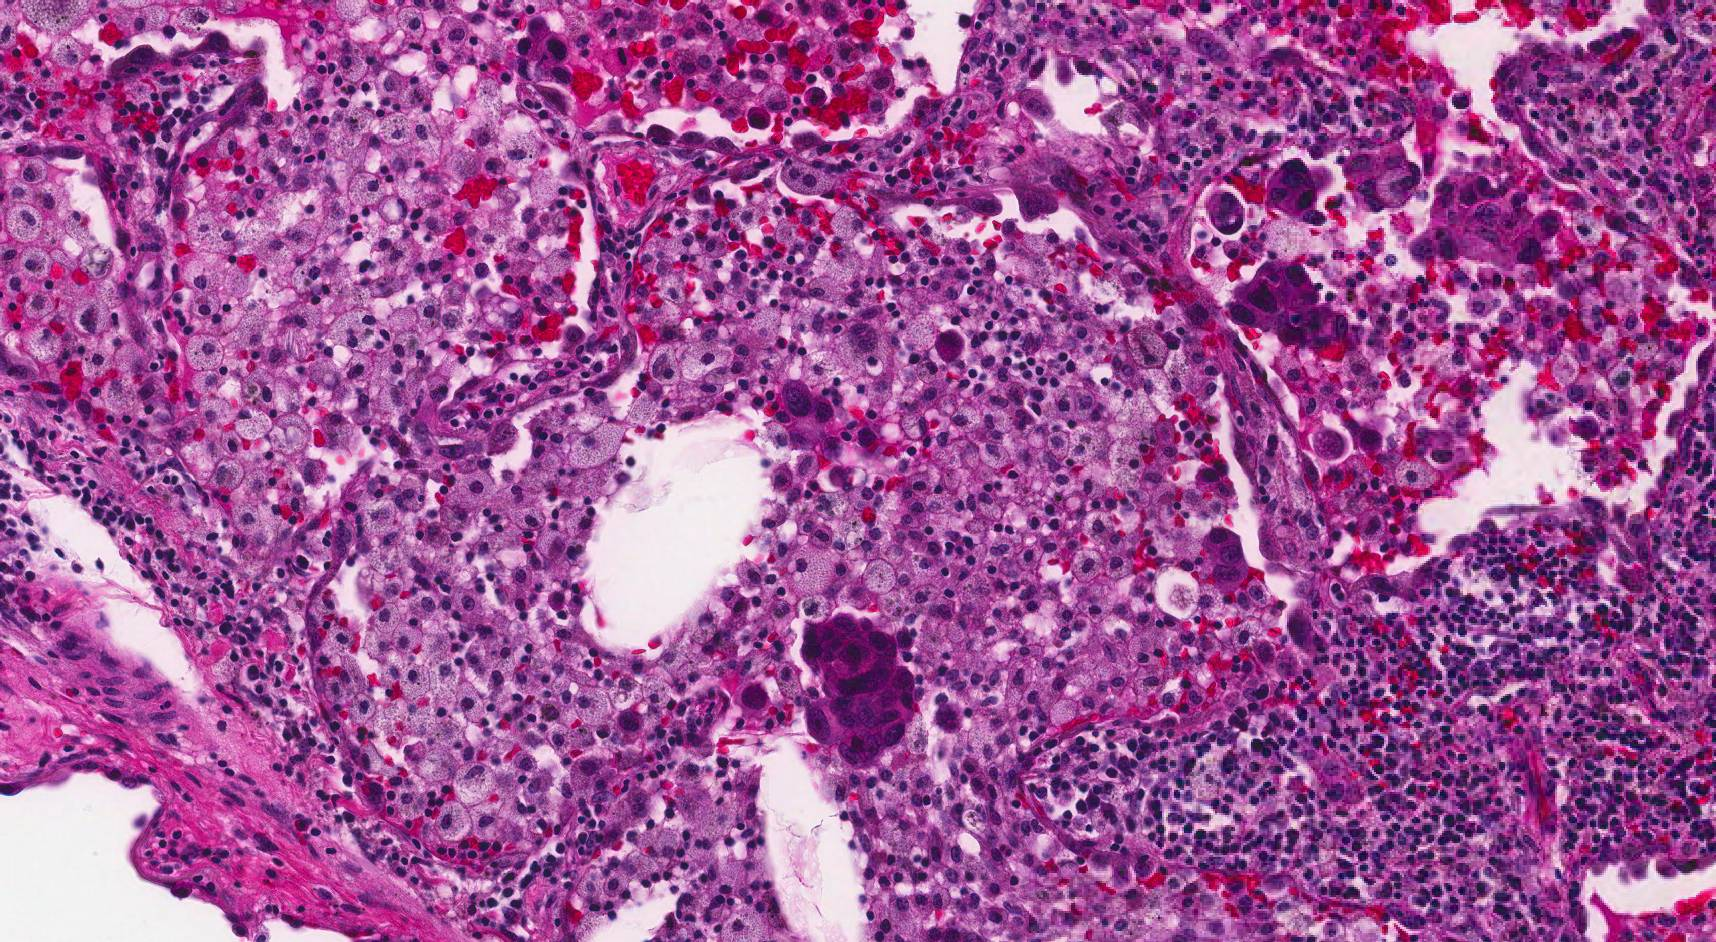stas: (802, 611, 917, 771), (1412, 174, 1569, 263), (1227, 260, 1350, 351), (1342, 150, 1422, 209), (1266, 159, 1328, 228), (782, 380, 834, 448), (1202, 524, 1250, 587), (1208, 191, 1246, 235)
